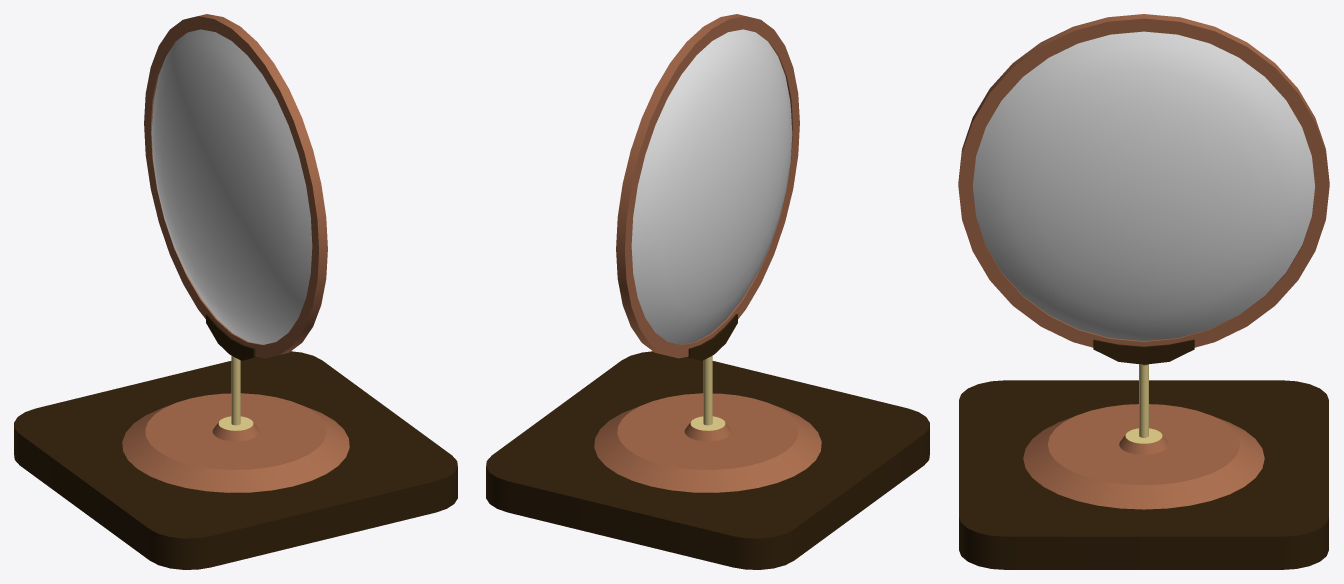
Rendered from lense.fbx.
3 renders of one model, left to right at view 1: azimuth 30°, elevation 25°; view 2: azimuth 150°, elevation 25°; view 3: azimuth 270°, elevation 25°, orthographic. The views are drawn at different scales.
Visible parts, largest first — view 1: Prisme; view 2: Prisme; view 3: Prisme.
Boxes of the visible parts, box(x1,y1,x2,y2) form: Prisme: box(14, 14, 457, 569); Prisme: box(486, 14, 929, 569); Prisme: box(958, 14, 1329, 569).
Size of the model in its own units: 6.09 by 6.07 by 8.61.
